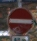No entry: (5, 5, 32, 36)
